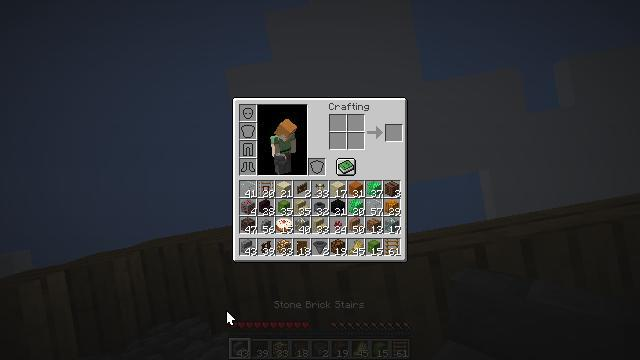cursor: (226, 310, 236, 326)
